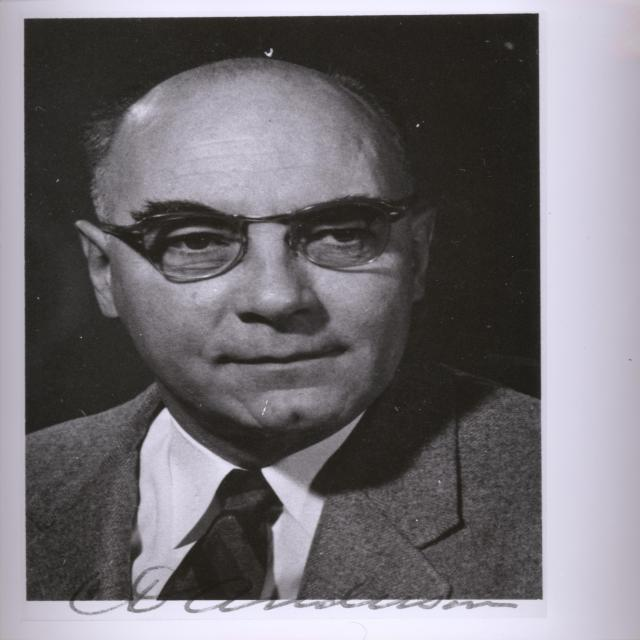no-glass: (163, 226, 376, 258)
